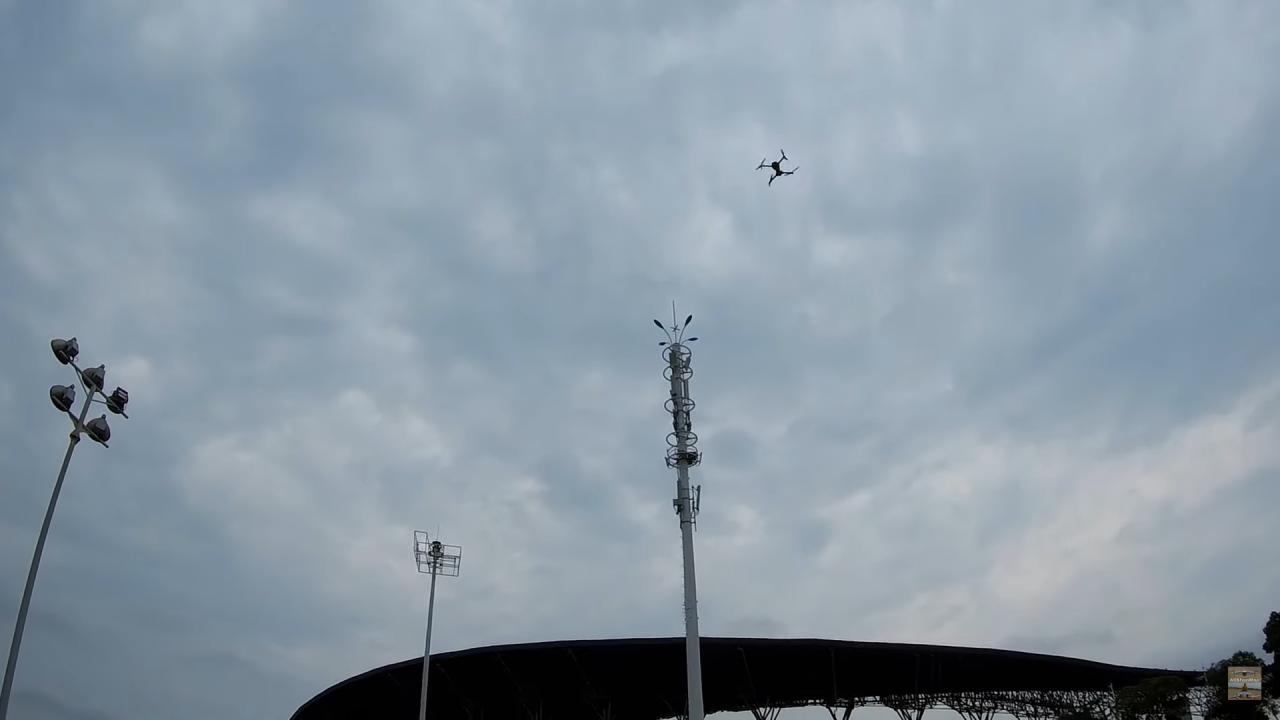Drone: (746, 138, 810, 193)
